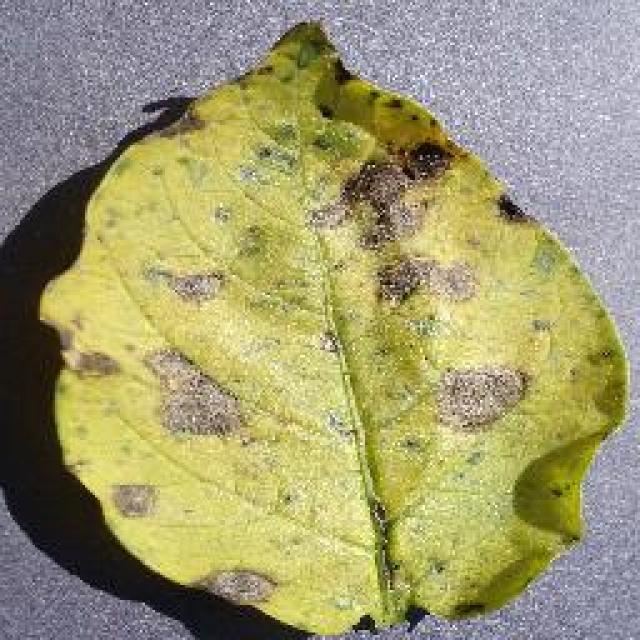early_blight: (32, 18, 632, 638)
